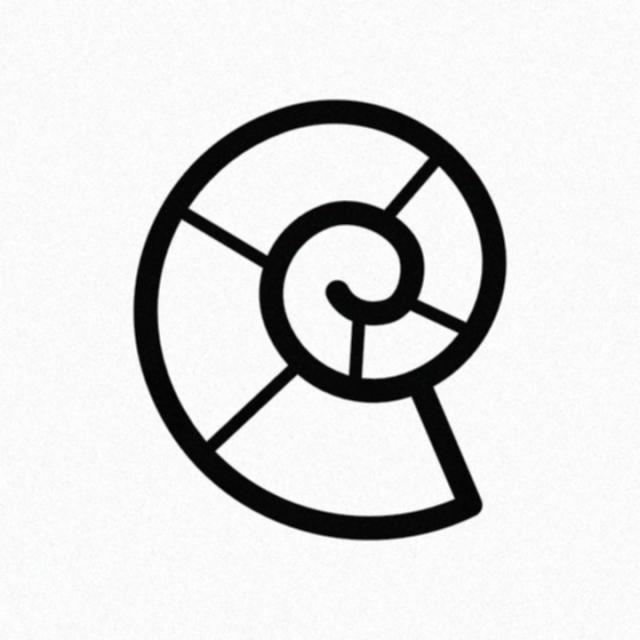fossil: (120, 97, 525, 557)
